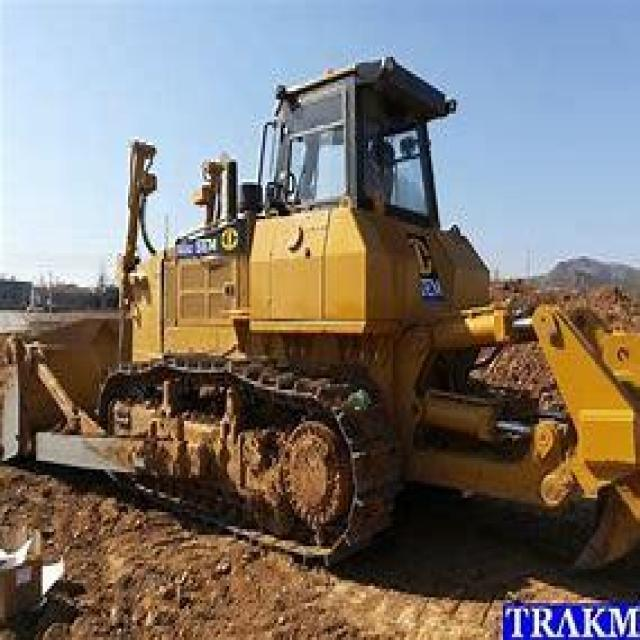buldozerpayloadergrader: (9, 40, 638, 586)
